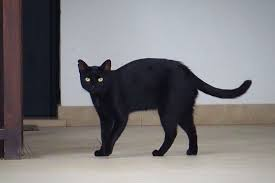cat: (75, 57, 254, 157)
